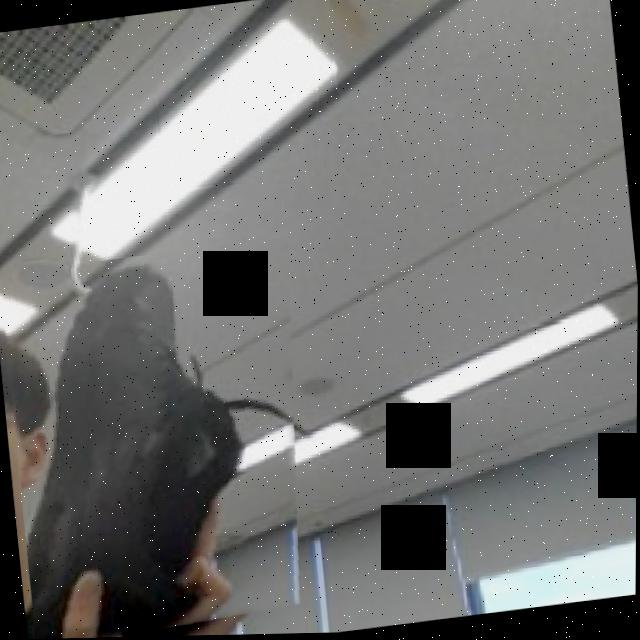shoe: (0, 237, 329, 640)
